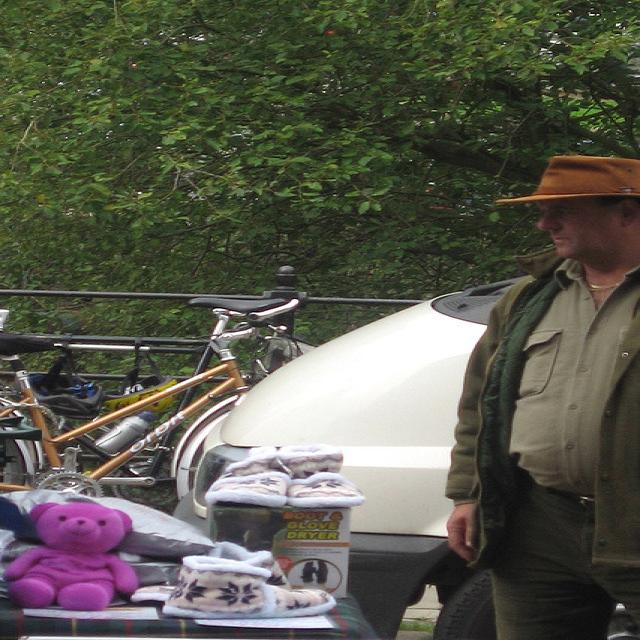Vehicle: (172, 276, 528, 640)
